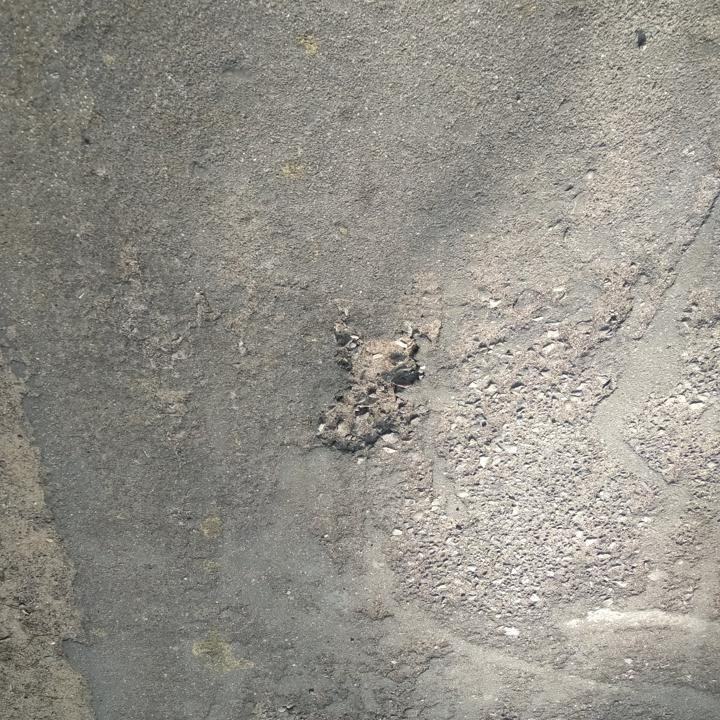pothole: (319, 330, 430, 460)
